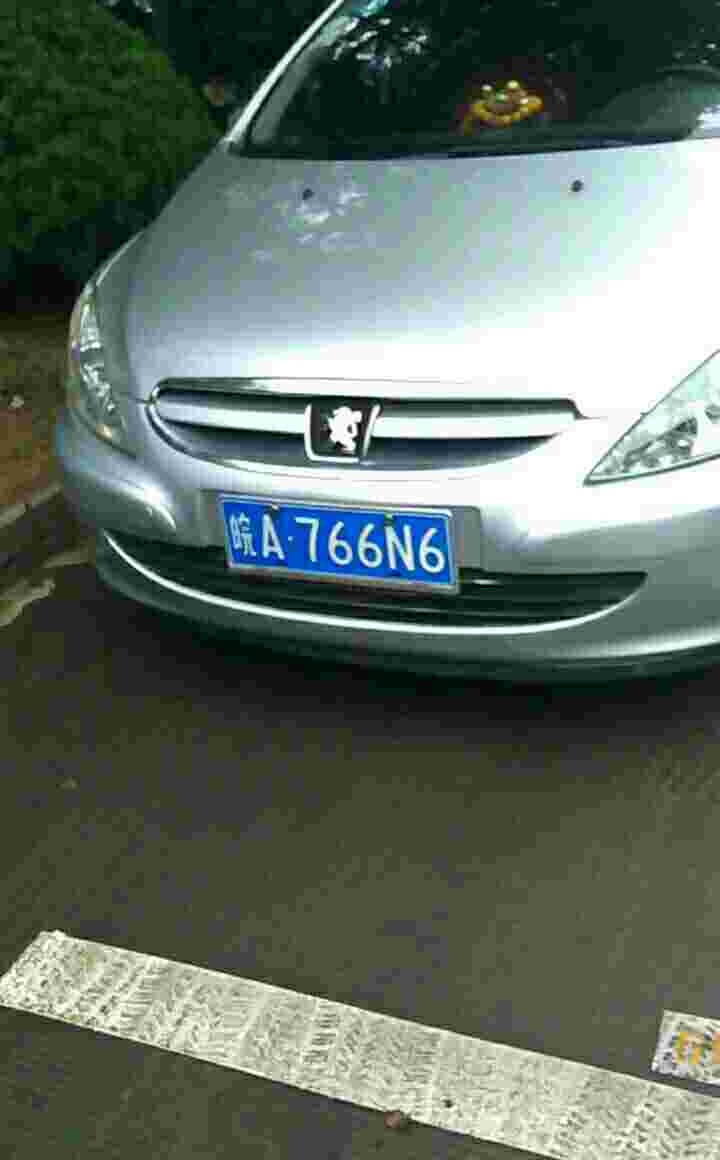license_plate: (204, 489, 460, 586)
